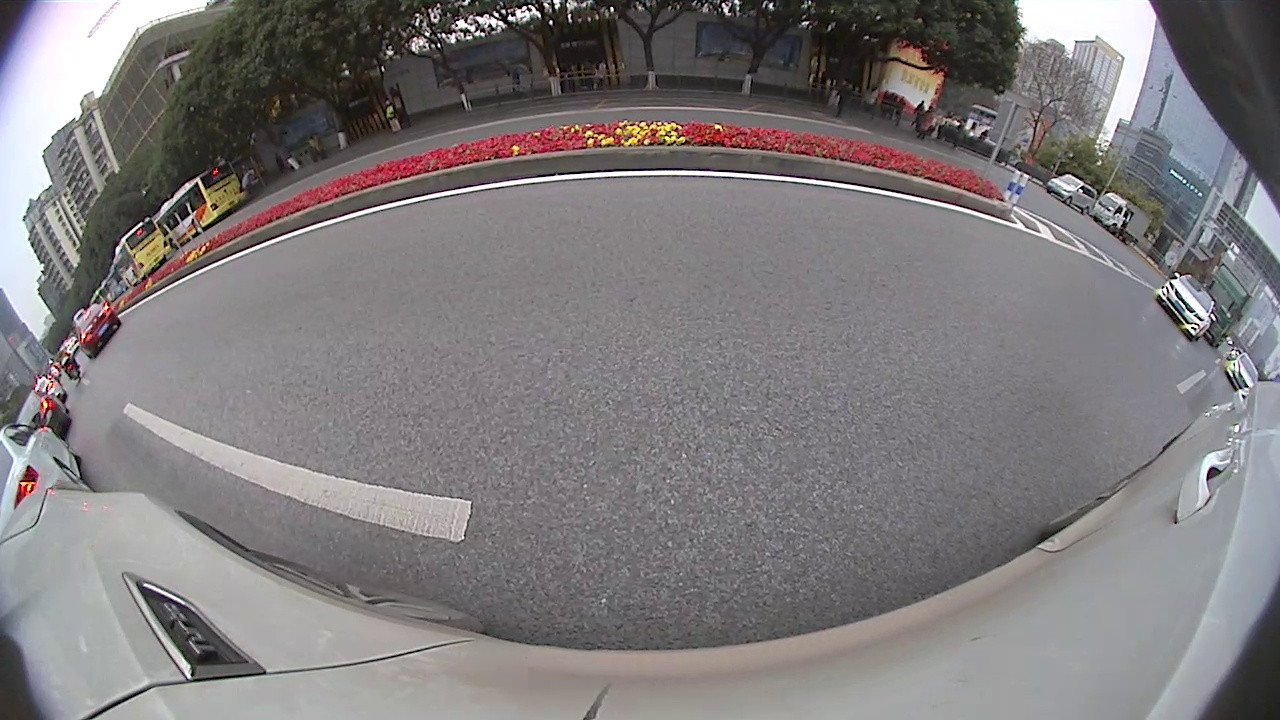bus: (154, 156, 251, 254), (110, 214, 176, 290)
car: (0, 427, 84, 542), (1154, 270, 1217, 342), (70, 299, 126, 360), (17, 387, 73, 447), (1050, 170, 1100, 219), (1222, 351, 1263, 393)
rider: (51, 342, 84, 386)
truck: (1204, 264, 1252, 351), (1088, 190, 1154, 247)
